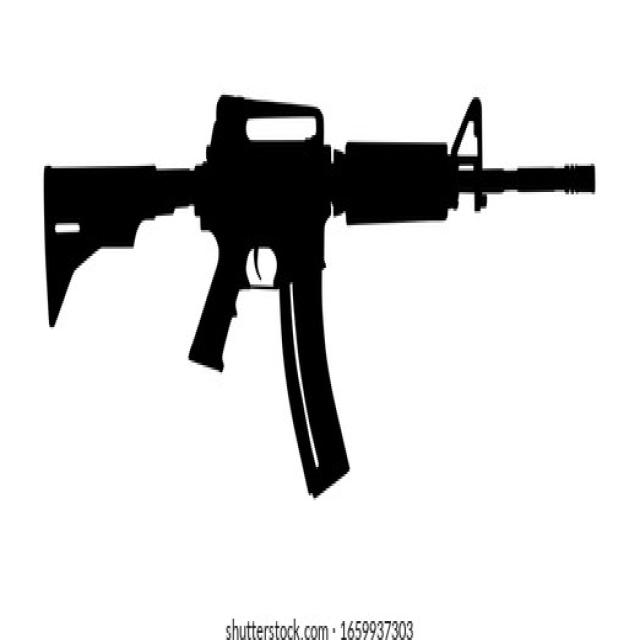Weapon: (44, 95, 595, 495)
